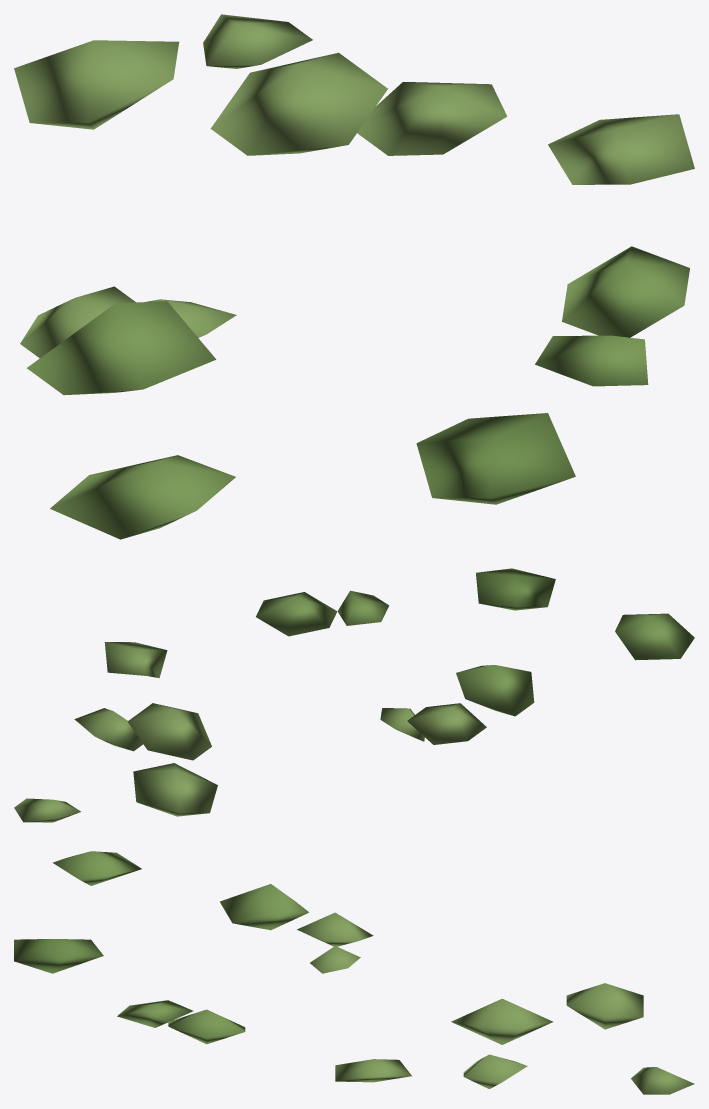
File: canopy-2-0-13.glb
3 renders of one model, top to bottom at view 1: azimuth 30°, elevation 25°; view 2: azimuth 150°, elevation 25°; view 3: azimuth 270°, elevation 25°, orthographic. The views are drawn at different scales.
Size of the model in its own units: 102 by 17.5 by 132.
1 material, 1 textured.
